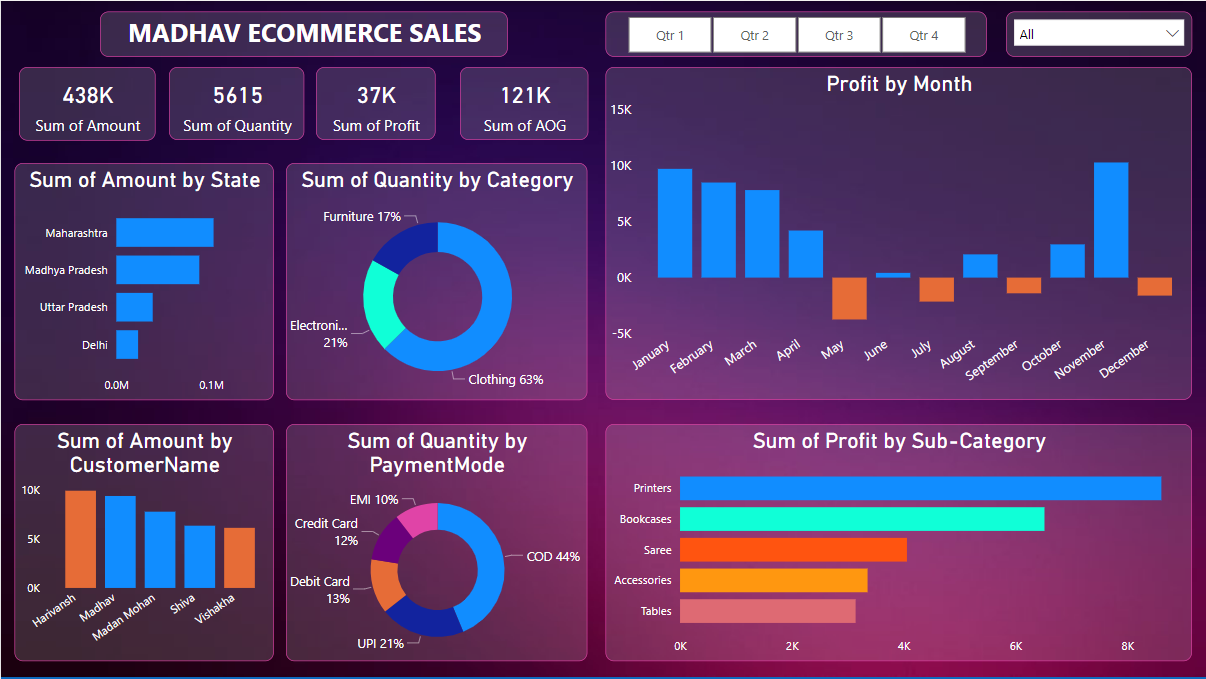

What the dashboard file says about the page in this screenshot:
{"tool":"powerbi","page":{"name":"Page 1","canvas":[1280,720],"ordinal":0},"visuals":[{"type":"textbox","box":[104.9,11.1,432.3,47.7],"z":0},{"type":"columnChart","title":"Profit by Month","fields":{"Y":["Details.Profit"],"Category":["Orders.Order Date.Variation.Date Hierarchy.Month"]},"box":[640.5,69.9,621.5,352.8],"z":1000},{"type":"barChart","fields":{"Category":["Details.Sub-Category"],"Y":["Details.Profit"]},"box":[640.5,448.2,621.5,251.1],"z":2000},{"type":"donutChart","fields":{"Category":["Details.Category"],"Y":["Details.Quantity"]},"box":[302,171.7,319.5,251.1],"z":3000},{"type":"donutChart","fields":{"Category":["Details.PaymentMode"],"Y":["Details.Quantity"]},"box":[302,448.2,319.5,251.1],"z":4000},{"type":"card","fields":{"Values":["Details.Amount"]},"box":[19.1,69.9,144.6,77.9],"z":5000},{"type":"card","fields":{"Values":["Details.Quantity"]},"box":[177.6,69.9,143.6,77.5],"z":6000},{"type":"card","fields":{"Values":["Details.Profit"]},"box":[334.5,69.9,126.6,77.5],"z":7000},{"type":"card","fields":{"Values":["Details.AOG"]},"box":[485.7,69.9,136.1,77.5],"z":8000},{"type":"barChart","fields":{"Category":["Orders.State"],"Y":["Details.Amount"]},"box":[14.3,171.7,275,251.1],"z":9000},{"type":"columnChart","fields":{"Category":["Orders.CustomerName"],"Y":["Details.Amount"]},"box":[14.3,448.2,275,251.1],"z":10000},{"type":"slicer","fields":{"Values":["Orders.Order Date.Variation.Date Hierarchy.Quarter"]},"box":[640.5,11.1,403.7,47.7],"z":11000},{"type":"slicer","fields":{"Values":["Orders.State"]},"box":[1064.9,11.1,197.1,47.7],"z":12000}]}

Visuals, with their boxes in screenshot pixels (x1, y1, x2, y2), scaled from the page's 1280x720 canvas onto the 1206x679 screenshot:
textbox: x1=99 y1=10 x2=506 y2=55
"Profit by Month" columnChart: x1=603 y1=66 x2=1189 y2=399
barChart - Details.Sub-Category x Details.Profit: x1=603 y1=423 x2=1189 y2=659
donutChart - Details.Category x Details.Quantity: x1=285 y1=162 x2=586 y2=399
donutChart - Details.PaymentMode x Details.Quantity: x1=285 y1=423 x2=586 y2=659
card - Details.Amount: x1=18 y1=66 x2=154 y2=139
card - Details.Quantity: x1=167 y1=66 x2=303 y2=139
card - Details.Profit: x1=315 y1=66 x2=434 y2=139
card - Details.AOG: x1=458 y1=66 x2=586 y2=139
barChart - Orders.State x Details.Amount: x1=13 y1=162 x2=273 y2=399
columnChart - Orders.CustomerName x Details.Amount: x1=13 y1=423 x2=273 y2=659
slicer - Orders.Order Date.Variation.Date Hierarchy.Quarter: x1=603 y1=10 x2=984 y2=55
slicer - Orders.State: x1=1003 y1=10 x2=1189 y2=55
